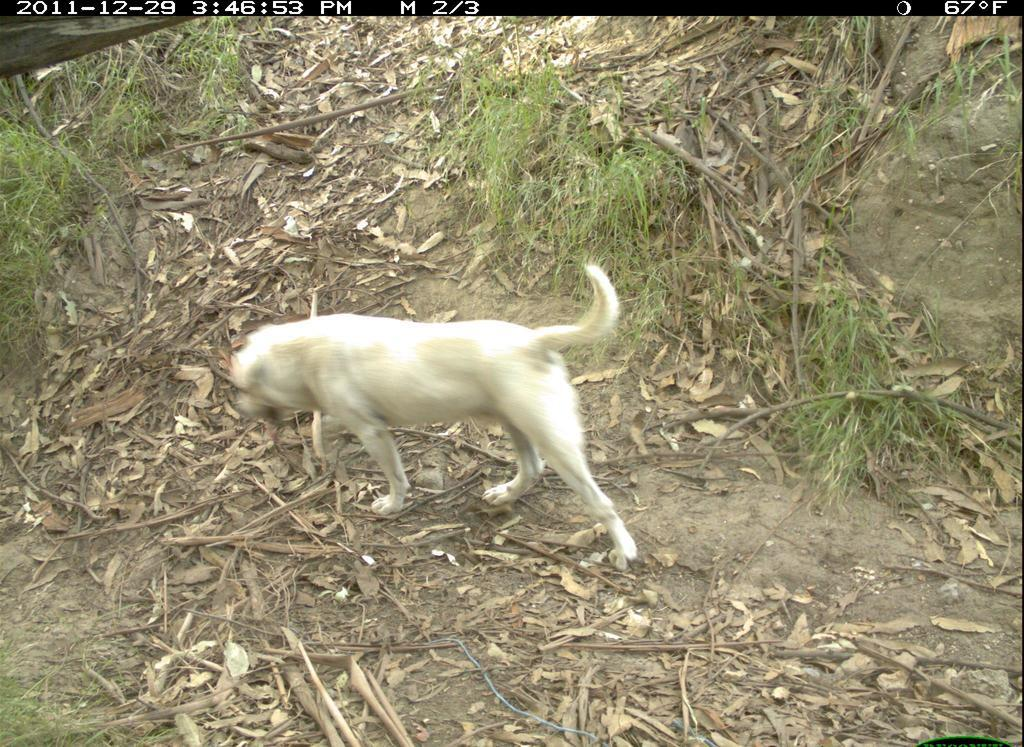dog: (216, 251, 685, 578)
